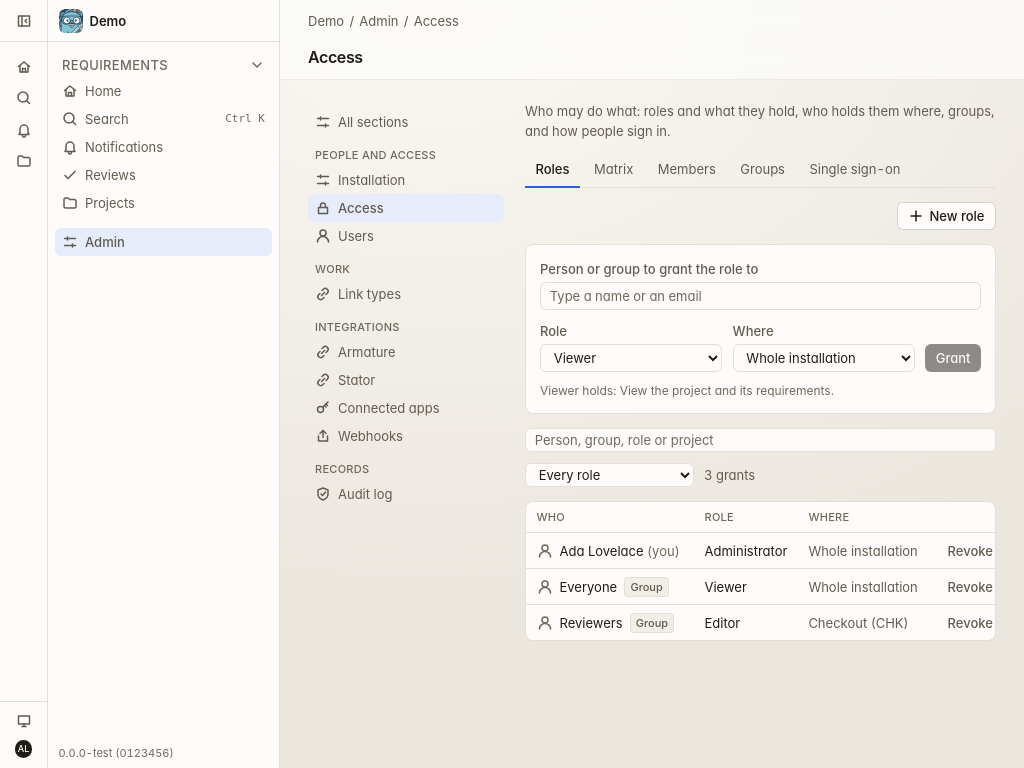
Test case: the Roles tab › takes a grant away and says so
The image size is (1024, 768).
Click the button with aria-label "Revoke Viewer from Everyone" at (970, 587), box [939,574,1002,599]
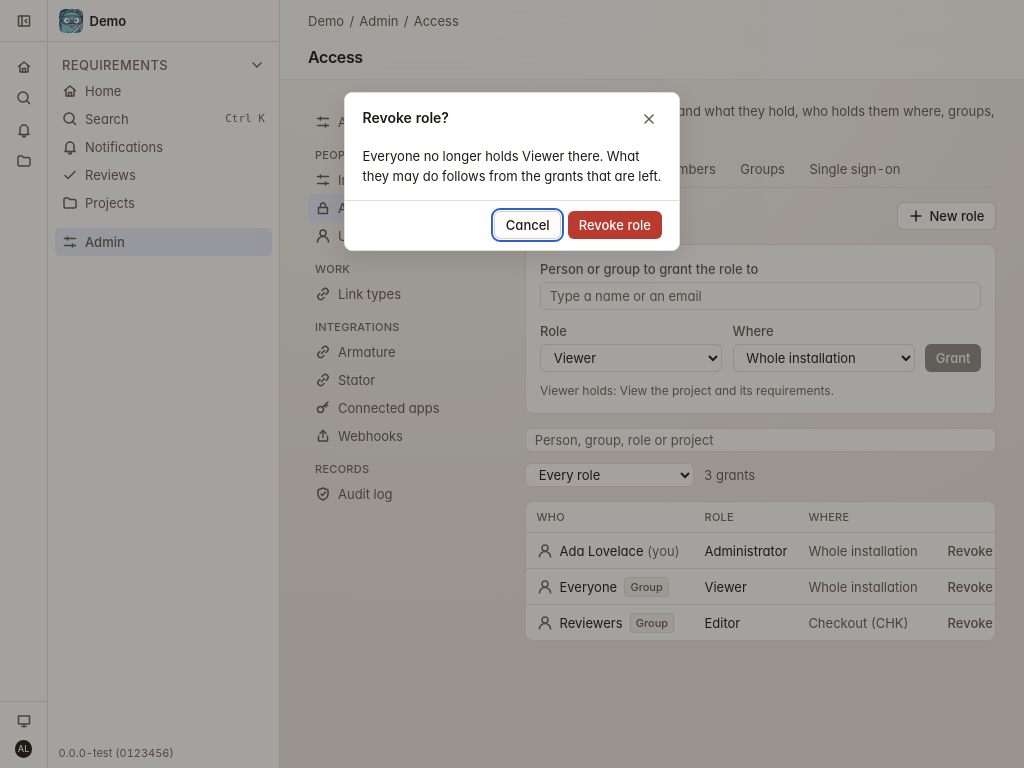
Check: the dialog is shown, box [344,92,680,251]
Click the button "Revoke role" at (615, 225), box [568,211,662,239]
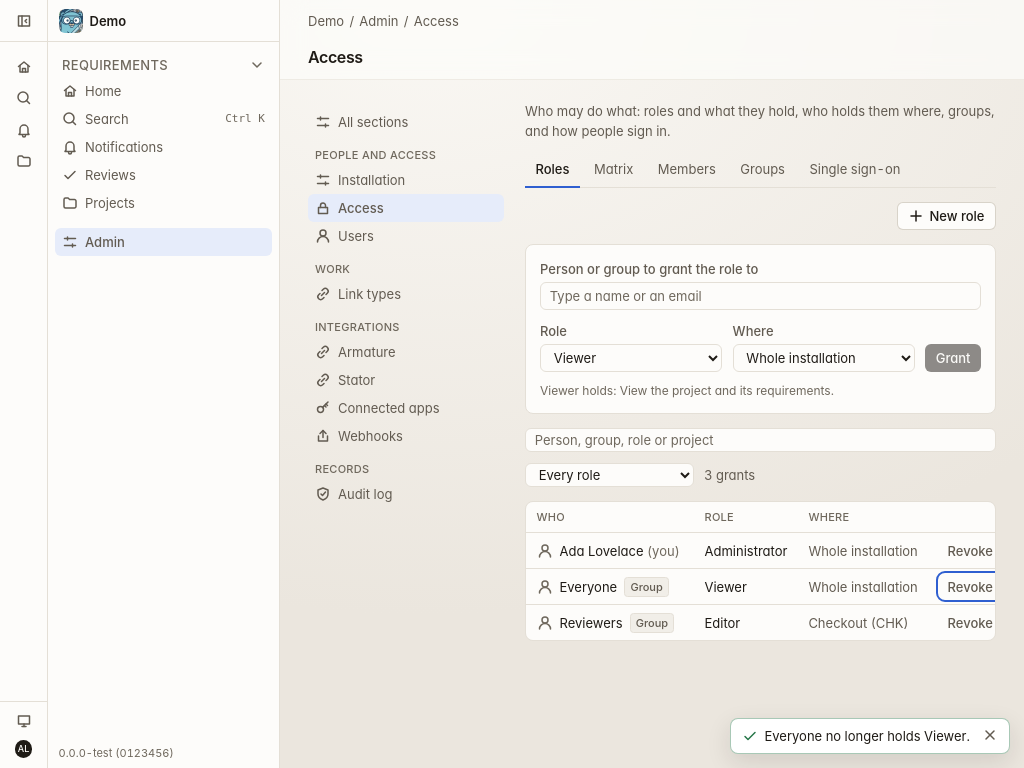
Check: the text "Everyone no longer holds Viewer." is shown, box [764,726,970,746]
